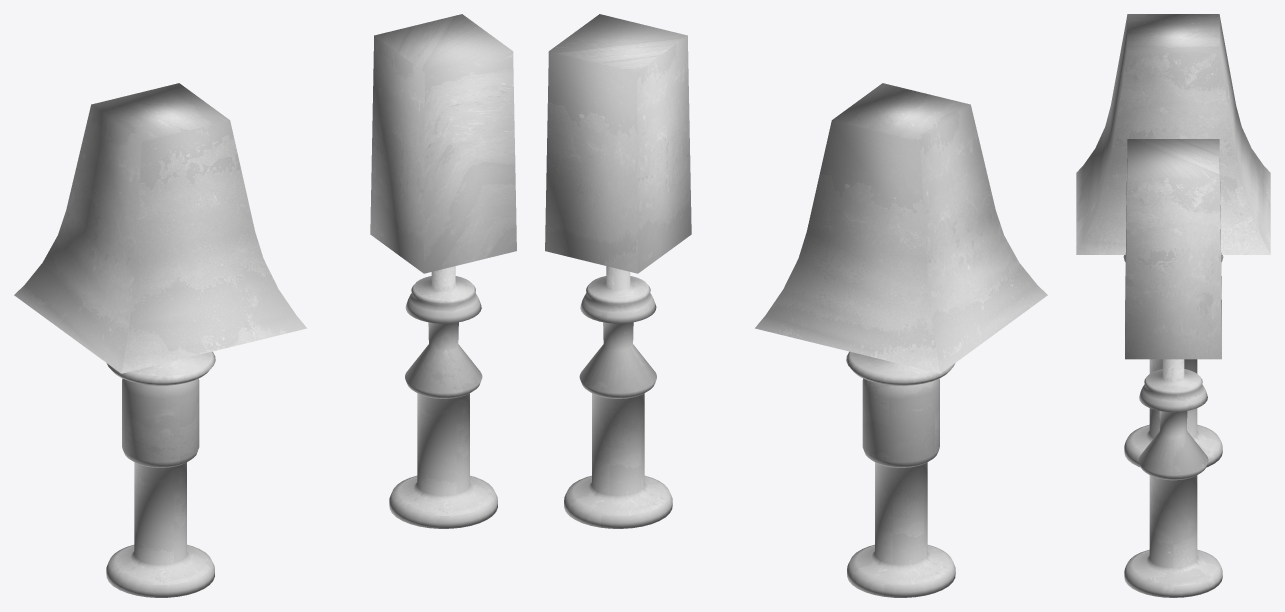
The model's file is Lampkes.fbx.
The picture shows the model from 3 angles, left to right: view 1: azimuth 30°, elevation 25°; view 2: azimuth 150°, elevation 25°; view 3: azimuth 270°, elevation 25°; orthographic projection. The views are drawn at different scales.
Visible parts, largest first — view 1: Lamp1, Lamp2; view 2: Lamp1, Lamp2; view 3: Lamp2, Lamp1.
Boxes of the visible parts, x1,y1,x2,y2 form: Lamp1: (14, 83, 306, 597); Lamp2: (370, 14, 516, 528); Lamp1: (755, 83, 1047, 597); Lamp2: (545, 14, 691, 528); Lamp2: (1124, 139, 1222, 597); Lamp1: (1076, 14, 1270, 467).
Size of the model in its own units: 897 by 937 by 394.
